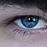eye: (22, 16, 37, 28)
